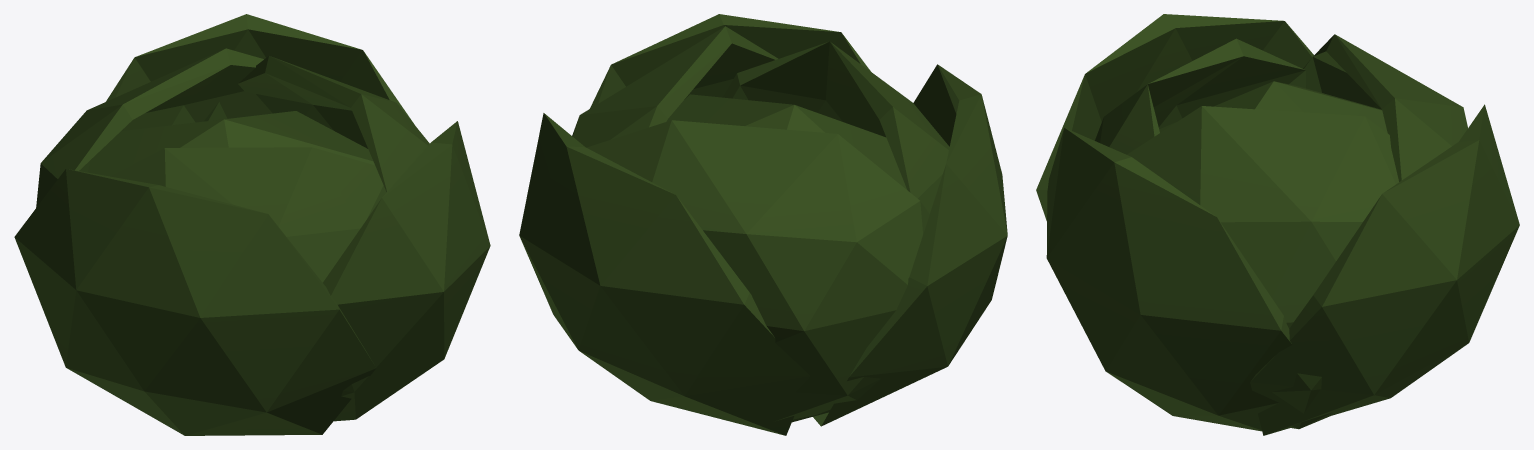
Rendered from Cabbage_02.fbx.
The picture shows the model from 3 angles, left to right: view 1: azimuth 30°, elevation 25°; view 2: azimuth 150°, elevation 25°; view 3: azimuth 270°, elevation 25°; orthographic projection. The views are drawn at different scales.
Visible parts, largest first — view 1: Cabbage_02; view 2: Cabbage_02; view 3: Cabbage_02.
Boxes of the visible parts, x1,y1,x2,y2 form: Cabbage_02: [14, 14, 490, 435]; Cabbage_02: [519, 14, 1007, 435]; Cabbage_02: [1036, 14, 1519, 435].
Bounding box in the file's own units: 0.5045 × 0.3807 × 0.5006.
